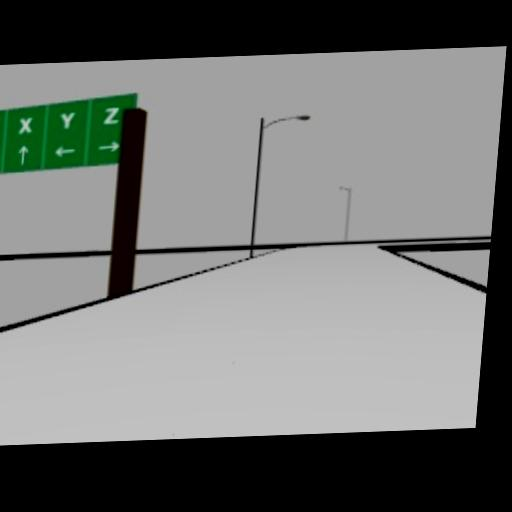Left: (53, 145, 75, 158)
Right: (96, 141, 120, 152)
Straight: (18, 144, 29, 163)
X: (17, 116, 32, 135), (17, 115, 32, 132)
Y: (57, 111, 75, 129), (59, 110, 75, 130)
Z: (102, 105, 121, 124)
